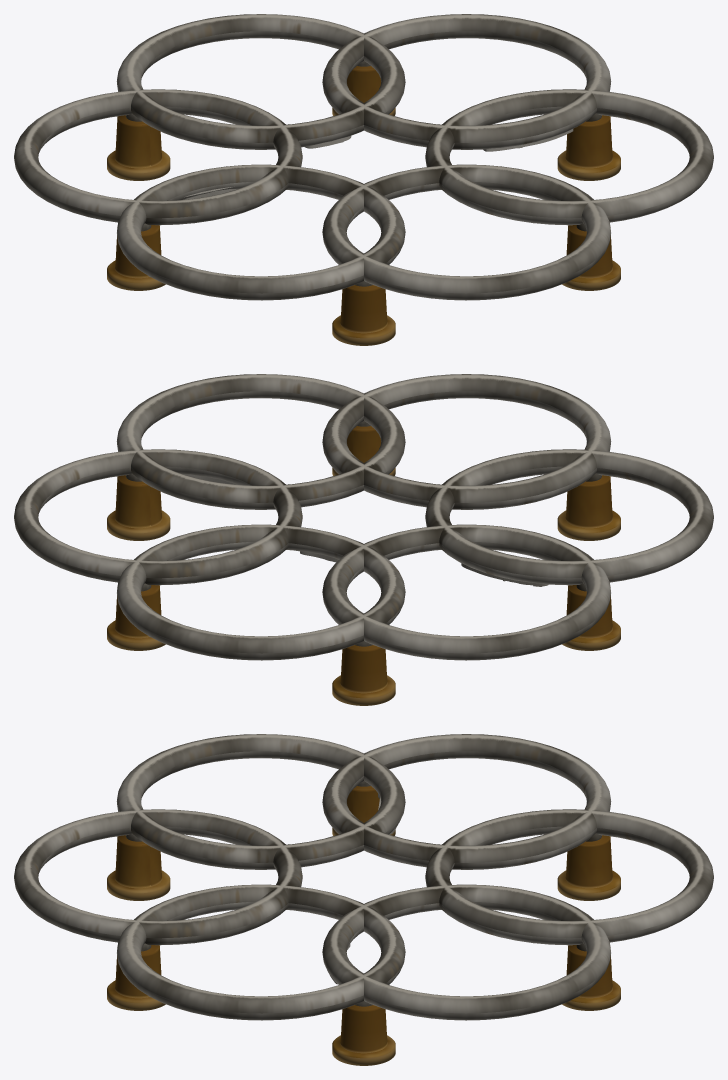
Rendered from podstavka 1.fbx.
3 renders of one model, top to bottom at view 1: azimuth 30°, elevation 25°; view 2: azimuth 150°, elevation 25°; view 3: azimuth 270°, elevation 25°, orthographic.
Visible parts, largest first — view 1: Podstavka; view 2: Podstavka; view 3: Podstavka.
Boxes of the visible parts, x1,y1,x2,y2 form: Podstavka: (14,14,713,345); Podstavka: (14,374,713,705); Podstavka: (14,734,713,1065).
Bounding box in the file's own units: 15.21 × 1.98 × 16.51.
